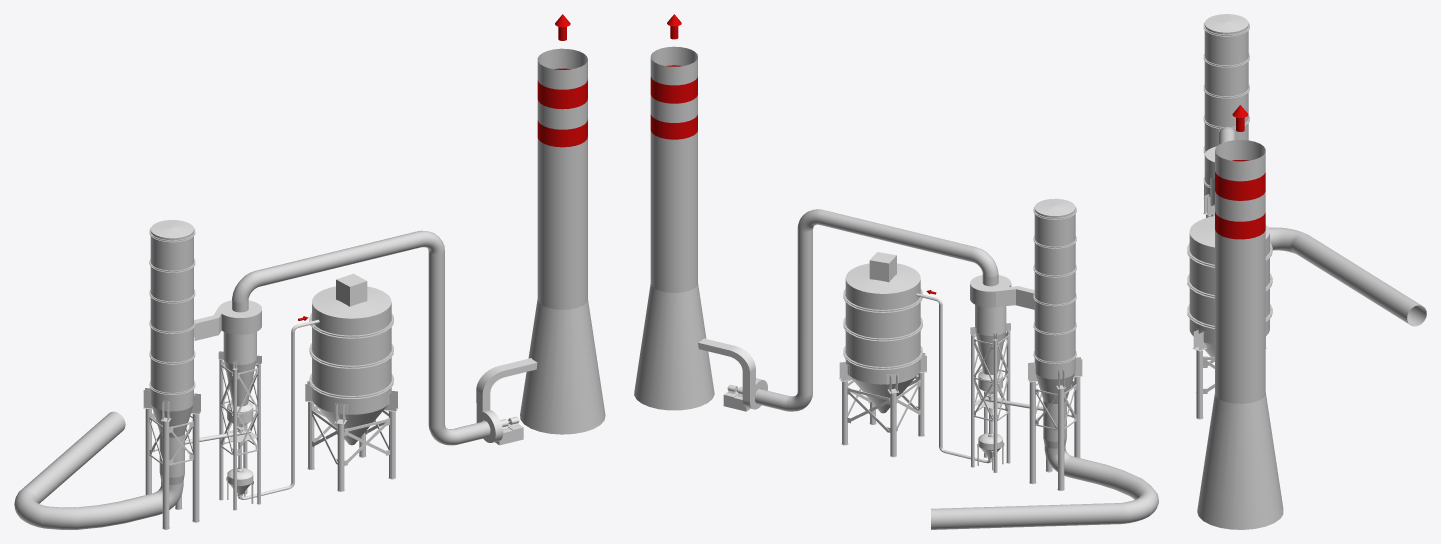
The model's file is Left lower image scene_v001.fbx.
The picture shows the model from 3 angles, left to right: view 1: azimuth 30°, elevation 25°; view 2: azimuth 150°, elevation 25°; view 3: azimuth 270°, elevation 25°; orthographic projection. The views are drawn at different scales.
Parts seen in each view (by area): view 1: polySurface869, polySurface906, polySurface907, polySurface894, polySurface49, polySurface769, polySurface36, polySurface284, polySurface650, polySurface690, polySurface764; view 2: polySurface869, polySurface906, polySurface907, polySurface894, polySurface49, polySurface769, polySurface36, polySurface801, polySurface735, polySurface714, polySurface658; view 3: polySurface906, polySurface907, polySurface869, polySurface49, polySurface647, polySurface36, polySurface65.
Boxes of the visible parts, box(x1,y1,x2,y2) form: polySurface869: box(14, 230, 193, 529); polySurface906: box(537, 48, 587, 309); polySurface907: box(520, 299, 605, 434); polySurface894: box(232, 230, 490, 445); polySurface49: box(312, 302, 391, 445); polySurface769: box(223, 332, 256, 406); polySurface36: box(312, 286, 391, 318); polySurface284: box(162, 421, 169, 529); polySurface650: box(192, 414, 199, 522); polySurface690: box(222, 358, 261, 504); polySurface764: box(221, 310, 261, 334); polySurface869: box(931, 208, 1158, 529); polySurface906: box(650, 46, 697, 292); polySurface907: box(634, 284, 714, 410); polySurface894: box(755, 209, 998, 411); polySurface49: box(845, 278, 920, 413); polySurface769: box(975, 304, 1006, 374); polySurface36: box(845, 263, 920, 293); polySurface801: box(698, 342, 755, 384); polySurface735: box(1057, 389, 1064, 490); polySurface714: box(1029, 382, 1036, 484); polySurface658: box(993, 333, 997, 472); polySurface906: box(1215, 140, 1265, 403); polySurface907: box(1197, 393, 1283, 529); polySurface869: box(1204, 23, 1426, 326); polySurface49: box(1189, 233, 1269, 361); polySurface647: box(1204, 14, 1248, 32); polySurface36: box(1189, 216, 1269, 247); polySurface65: box(1196, 350, 1203, 419).
Bounding box in the file's own units: 194 × 133 × 70.62.
